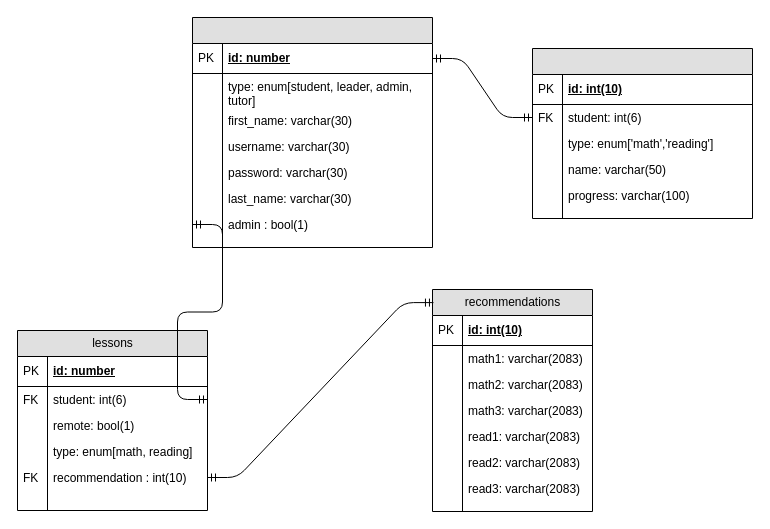
The diagram is 770 pixels wide and 529 high, and some of its shapes have lost their labels. Each missing label, with the box of its shape:
past_lesson: (532, 48, 752, 218)
phsf_users: (192, 16, 432, 248)
